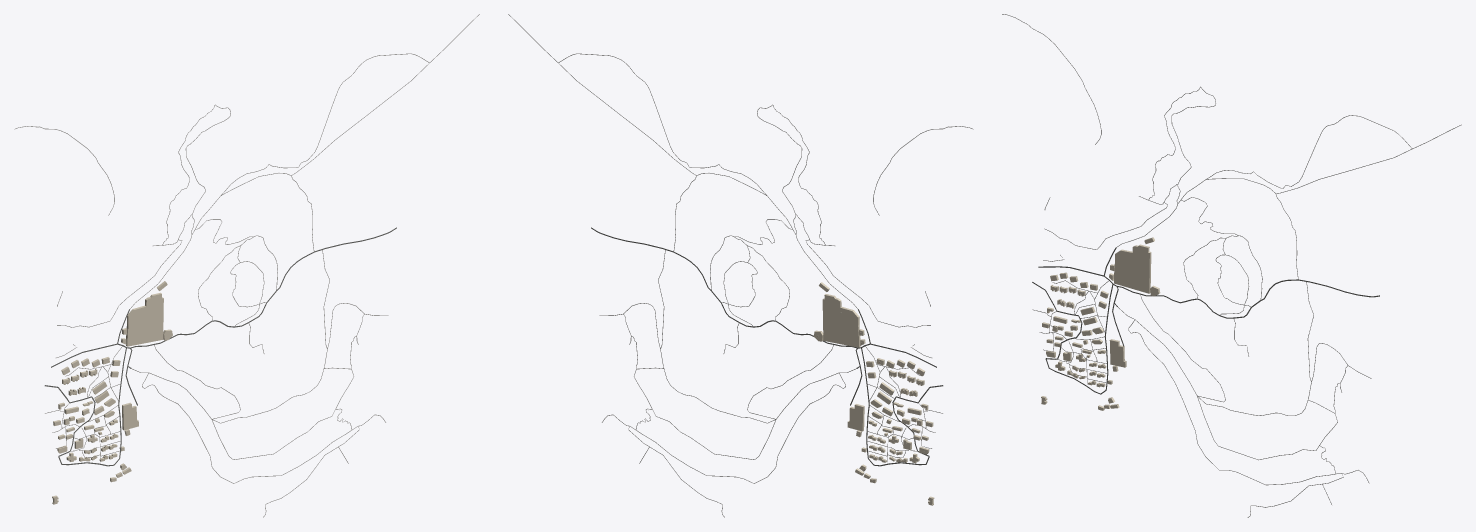
Rendered from historic-palestine-09_23_3512_3178.glb.
3 renders of one model, left to right at view 1: azimuth 30°, elevation 25°; view 2: azimuth 150°, elevation 25°; view 3: azimuth 330°, elevation 25°, orthographic.
Parts seen in each view (by area): view 1: Building_; view 2: Building_; view 3: Building_.
Part boxes in pixels (x1,y1,x2,y2): Building_: (126, 292, 163, 346); Building_: (822, 294, 860, 347); Building_: (1114, 244, 1151, 293).
Size of the model in its own units: 1383 by 1281 by 8.7.
